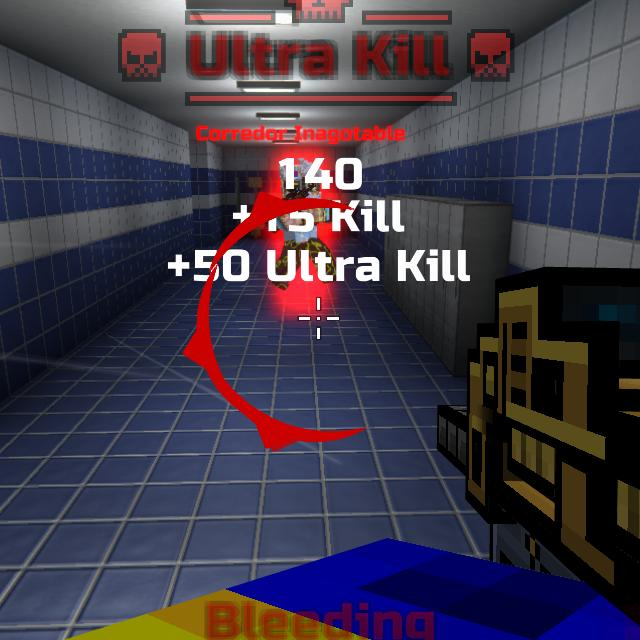Enemy: (267, 158, 342, 291)
